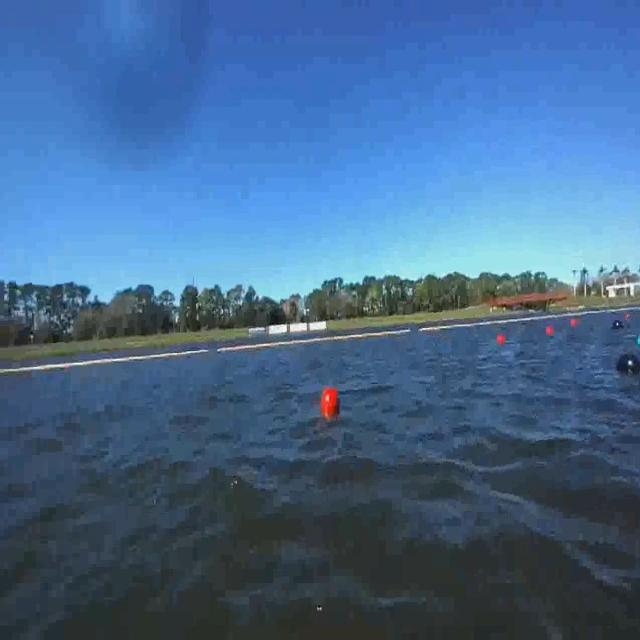black-buoy: (617, 353, 640, 375)
red-buoy: (325, 390, 343, 423), (496, 336, 506, 346), (545, 325, 553, 336), (548, 328, 555, 339), (570, 319, 577, 327)
